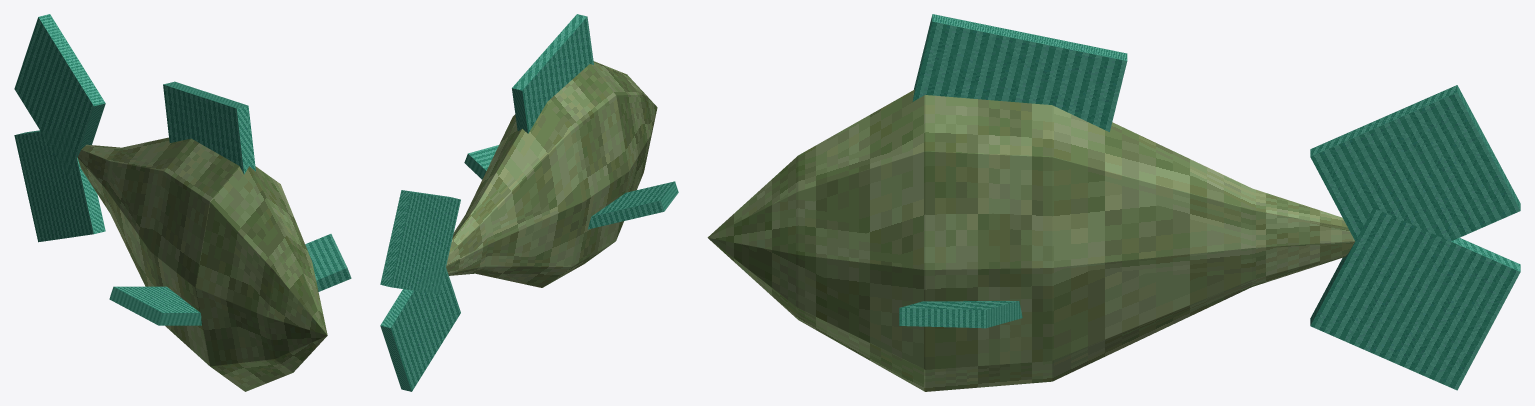
File: traira_do_brejo.glb
The picture shows the model from 3 angles, left to right: view 1: azimuth 30°, elevation 25°; view 2: azimuth 150°, elevation 25°; view 3: azimuth 270°, elevation 25°; orthographic projection. The views are drawn at different scales.
Parts seen in each view (by area): view 1: traira_do_brejo; view 2: traira_do_brejo; view 3: traira_do_brejo.
Boxes of the visible parts, box(x1,y1,x2,y2) form: traira_do_brejo: box(14, 14, 351, 391); traira_do_brejo: box(380, 14, 678, 391); traira_do_brejo: box(707, 14, 1520, 391).
Size of the model in its own units: 0.4183 by 0.5003 by 0.9854.
Materials: 1 (1 with a texture image).
